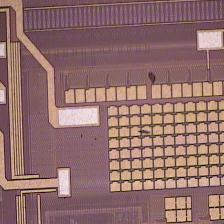PIQ PARTICLE: (76, 68, 161, 147)
